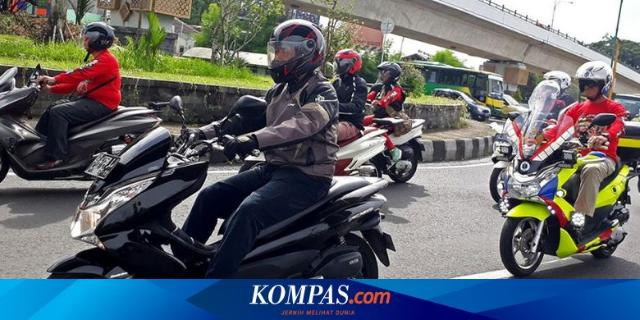helm: (268, 17, 328, 89), (576, 61, 615, 106), (82, 22, 116, 55), (332, 48, 365, 80), (543, 70, 574, 96), (377, 60, 404, 88)
motor: (48, 110, 391, 280), (486, 109, 636, 279), (1, 62, 165, 188), (300, 122, 391, 182), (355, 113, 427, 187)
